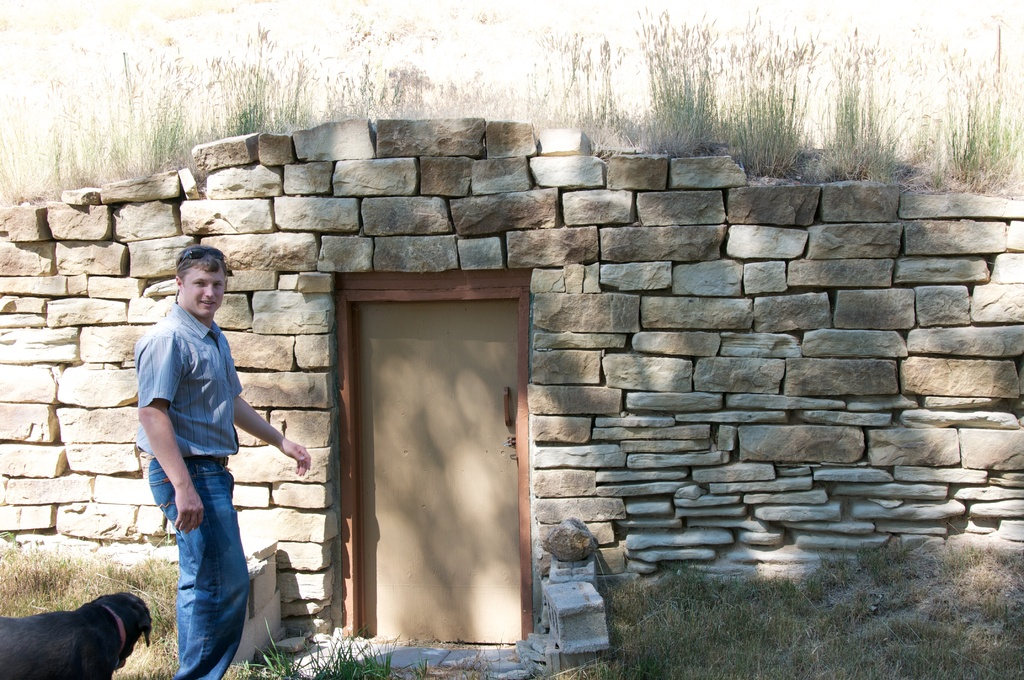Door: (339, 290, 532, 647)
